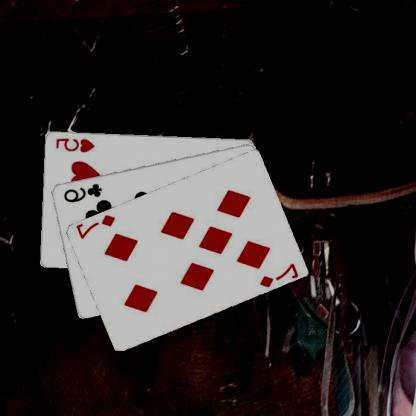5H: (54, 135, 97, 153)
7D: (76, 212, 118, 240), (258, 261, 300, 288)
9C: (62, 180, 105, 204)
